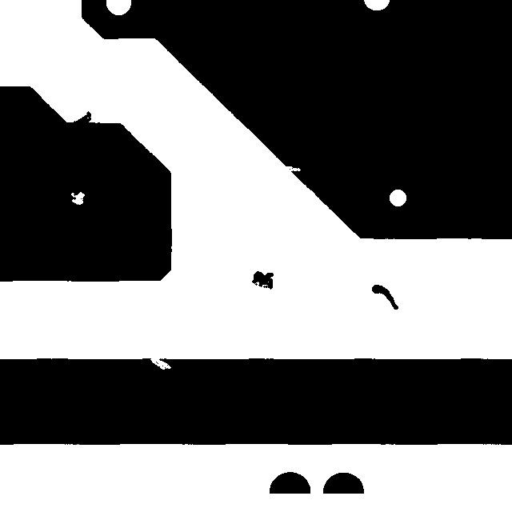copper: (364, 277, 406, 317), (244, 263, 281, 297)
mousebite: (141, 347, 178, 377), (278, 158, 308, 179)
pin-hole: (382, 182, 414, 214), (63, 184, 92, 212)
spur: (66, 103, 98, 132)
